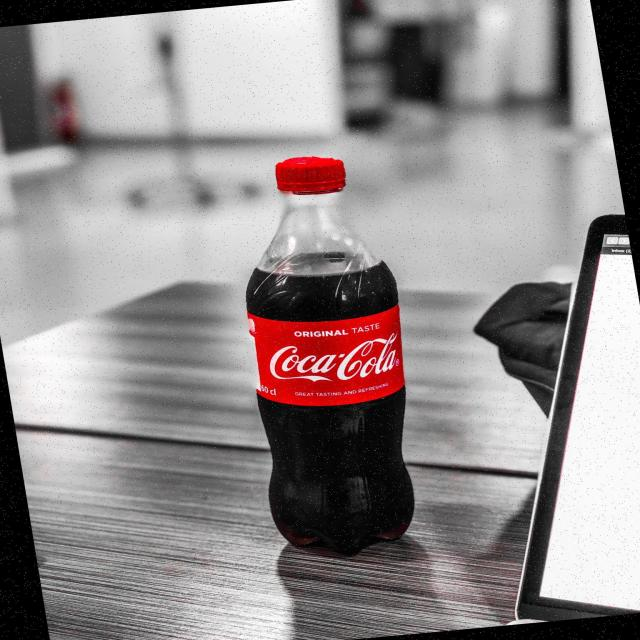coca-cola: (202, 139, 455, 572)
